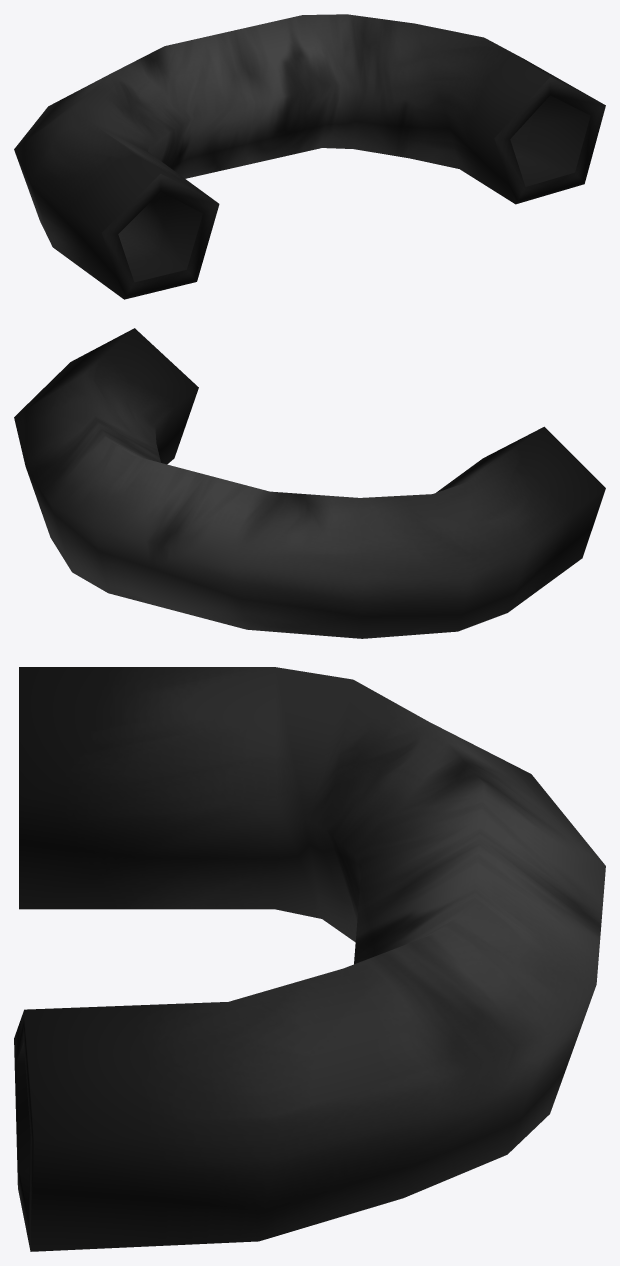
File: tube_type_1.fbx
The picture shows the model from 3 angles, top to bottom: view 1: azimuth 30°, elevation 25°; view 2: azimuth 150°, elevation 25°; view 3: azimuth 270°, elevation 25°; orthographic projection. The views are drawn at different scales.
Visible parts, largest first — view 1: tube_type_1; view 2: tube_type_1; view 3: tube_type_1.
Boxes of the visible parts, x1=… form: tube_type_1: x1=14, y1=14, x2=605, y2=299; tube_type_1: x1=14, y1=328, x2=605, y2=638; tube_type_1: x1=14, y1=667, x2=605, y2=1251.
Bounding box in the file's own units: 821 × 181 × 461.
Materials: 1 (1 with a texture image).
